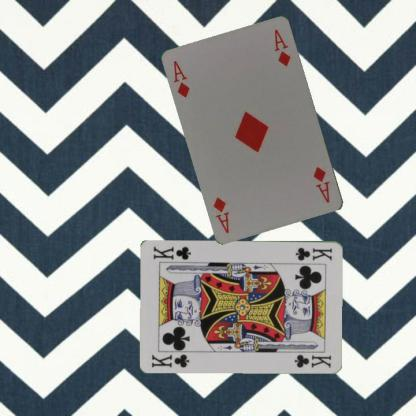Ad: (310, 164, 332, 205), (171, 58, 192, 100)
Kc: (150, 350, 191, 368), (293, 245, 333, 262)
